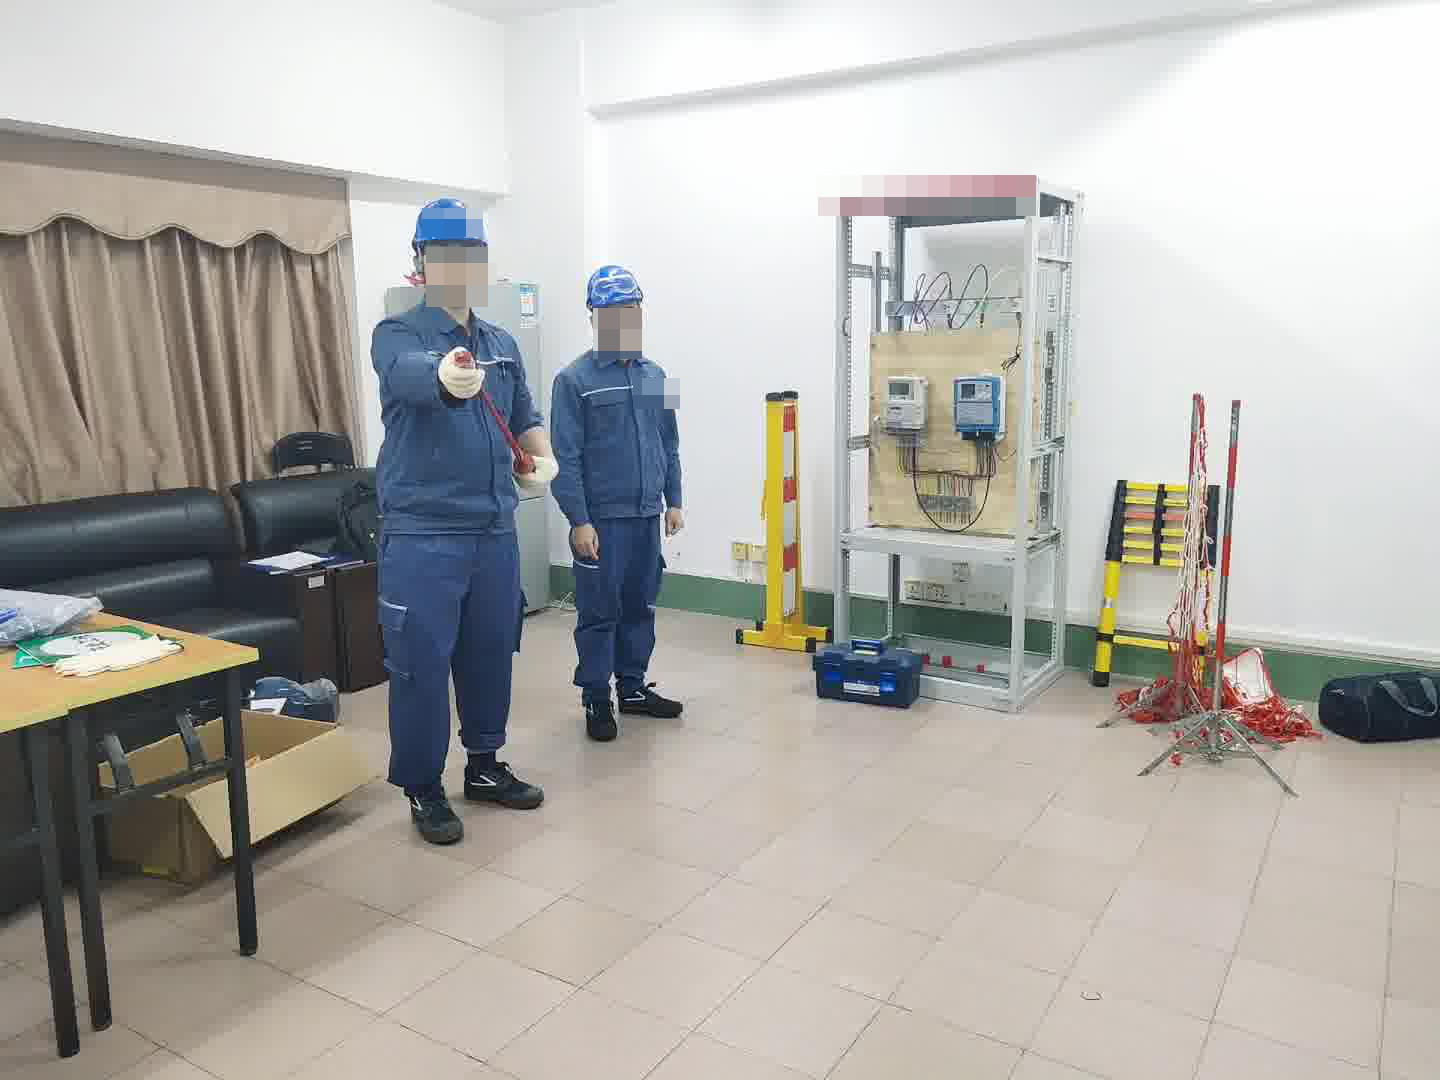downsuit: (378, 550, 530, 796), (570, 528, 667, 699)
halt: (411, 196, 494, 303), (584, 262, 650, 350)
hand: (568, 520, 598, 557), (663, 500, 687, 534)
inear: (406, 244, 431, 279)
person: (367, 194, 547, 834), (552, 261, 690, 731)
testrod: (457, 348, 533, 468)
upsuit: (366, 291, 540, 528), (555, 347, 684, 521)
wglove: (438, 343, 483, 400), (514, 453, 559, 489)
wrongtop: (503, 388, 550, 450)
